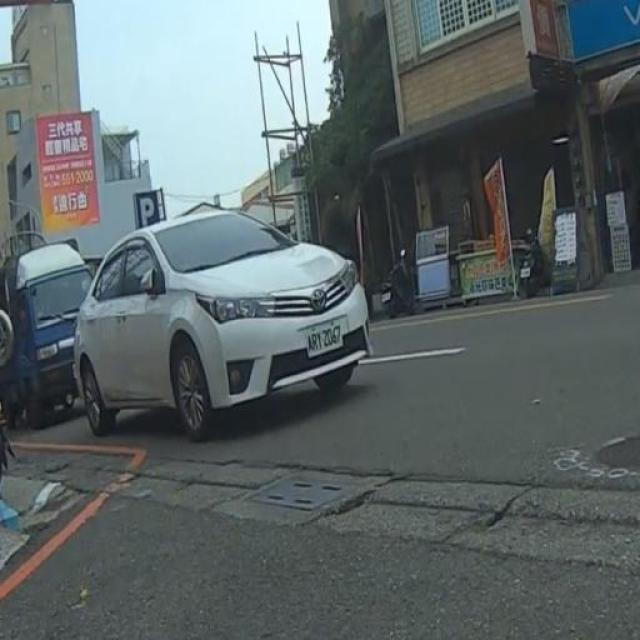Legalparking: (0, 173, 378, 472)
